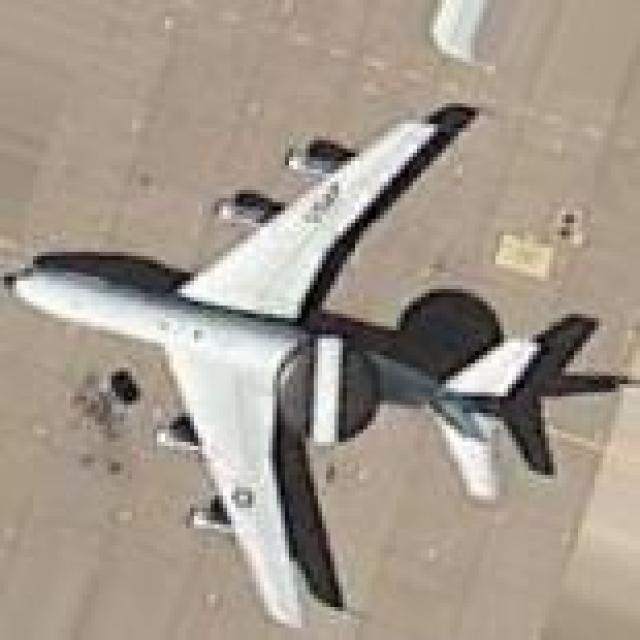E-3_TopDown: (0, 95, 632, 628)
